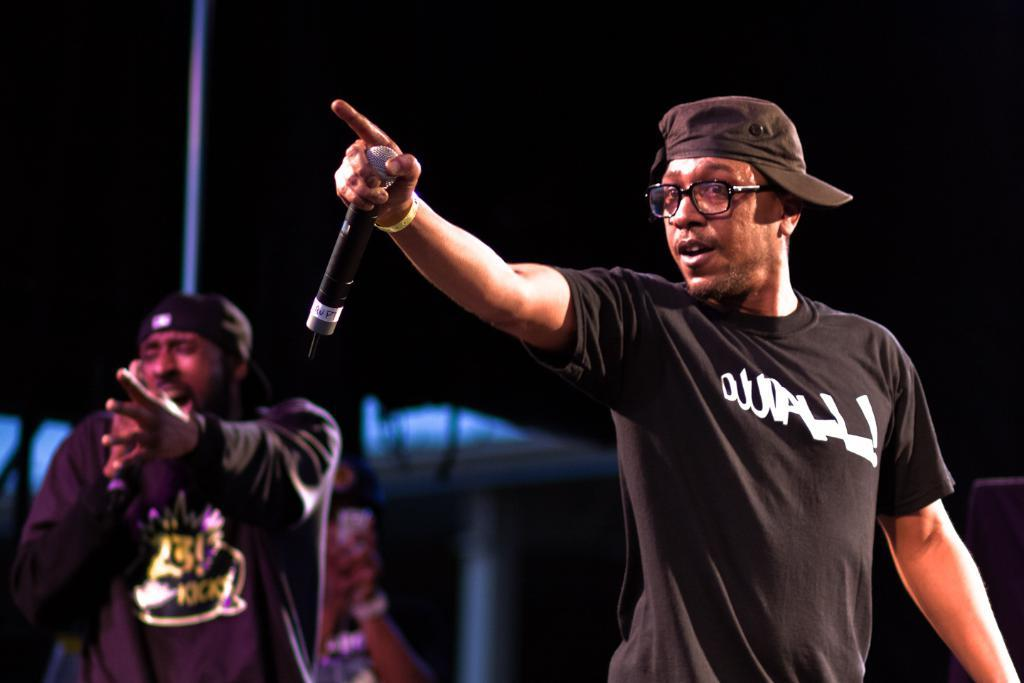Hat: (655, 99, 853, 207)
